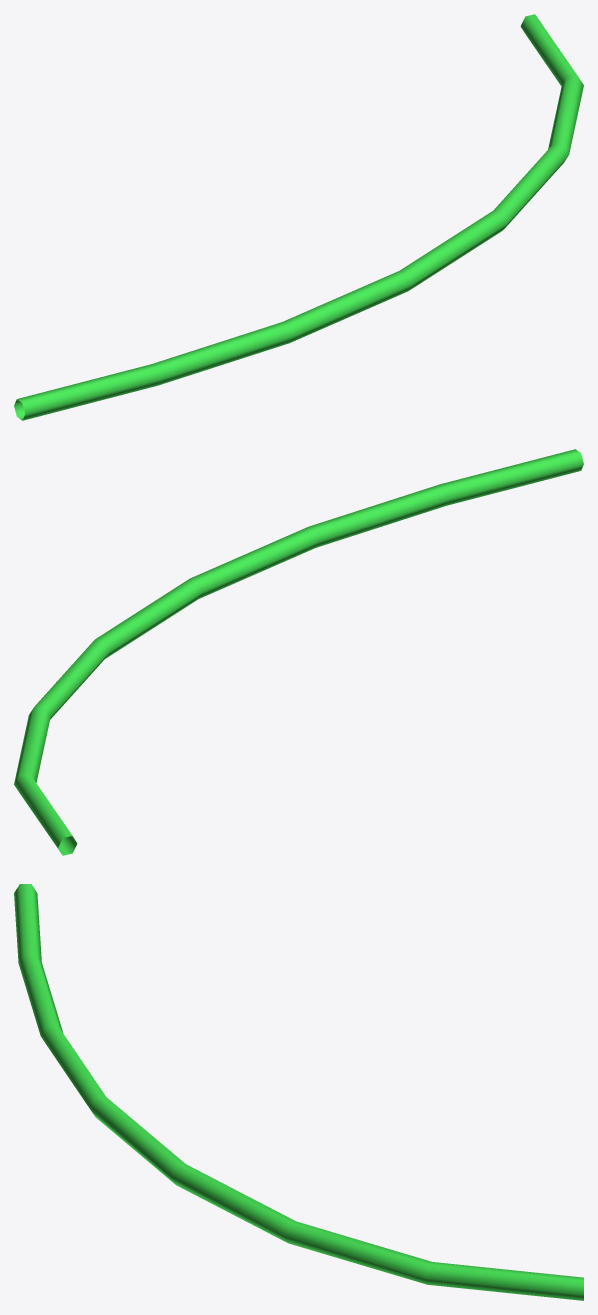
Rendered from Wire_02_A.fbx.
3 renders of one model, top to bottom at view 1: azimuth 30°, elevation 25°; view 2: azimuth 210°, elevation 25°; view 3: azimuth 270°, elevation 25°, orthographic. The views are drawn at different scales.
Parts seen in each view (by area): view 1: Wire_02_A; view 2: Wire_02_A; view 3: Wire_02_A.
Part boxes in pixels (<box>): Wire_02_A: <box>14,14,583,420</box>; Wire_02_A: <box>14,449,583,855</box>; Wire_02_A: <box>14,884,583,1300</box>.
Bounding box in the file's own units: 103 × 2.2 × 61.74.
